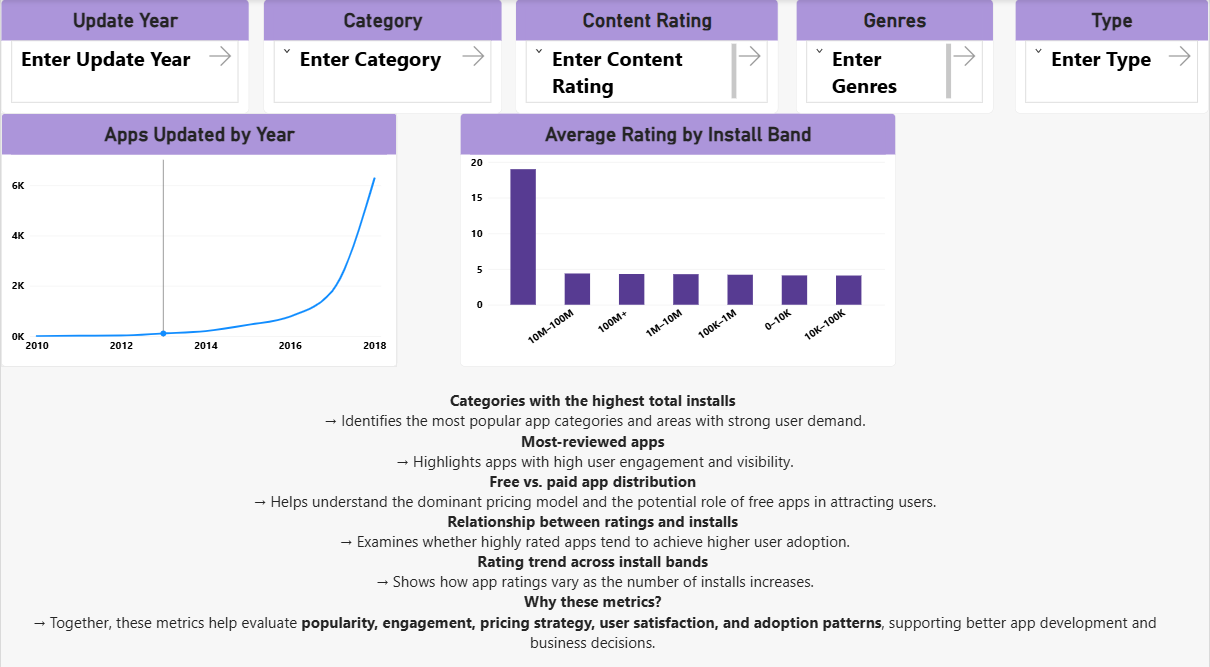

The dashboard page shown, as its layout file describes it:
{"tool":"powerbi","page":{"name":"Page 3","canvas":[1920,1080],"ordinal":2},"visuals":[{"type":"lineChart","title":"Apps Updated by Year","fields":{"Category":["googleplaystore_powerbi.Update Year"],"Y":["Count(googleplaystore_powerbi.App)"]},"box":[0,182.2,630.4,403.3],"z":0},{"type":"clusteredColumnChart","title":"Average Rating by Install Band","fields":{"Category":["googleplaystore_powerbi.Install Band"],"Y":["Avg(googleplaystore_powerbi.Rating)"]},"box":[729,182.2,693.1,403.3],"z":1},{"type":"textSlicer","fields":{"Values":["googleplaystore_powerbi.Update Year"]},"box":[0,0,394.4,182.2],"z":2},{"type":"textSlicer","fields":{"Values":["googleplaystore_powerbi.Category"]},"box":[418.3,0,379.4,182.2],"z":3},{"type":"textSlicer","fields":{"Values":["googleplaystore_powerbi.Content Rating"]},"box":[818.6,0,418.3,182.2],"z":4},{"type":"textSlicer","fields":{"Values":["googleplaystore_powerbi.Genres"]},"box":[1263.8,0,313.7,182.2],"z":5},{"type":"textSlicer","fields":{"Values":["googleplaystore_powerbi.Type"]},"box":[1613.3,0,307.7,182.2],"z":6},{"type":"textbox","box":[0,585.6,1882.2,493],"z":7}]}

Visuals, with their boxes in screenshot pixels (x1, y1, x2, y2), scaled from the page's 1920x1080 canvas onto the 1210x667 screenshot:
"Apps Updated by Year" lineChart: [left=0, top=113, right=397, bottom=362]
"Average Rating by Install Band" clusteredColumnChart: [left=459, top=113, right=896, bottom=362]
textSlicer - googleplaystore_powerbi.Update Year: [left=0, top=0, right=249, bottom=113]
textSlicer - googleplaystore_powerbi.Category: [left=264, top=0, right=503, bottom=113]
textSlicer - googleplaystore_powerbi.Content Rating: [left=516, top=0, right=780, bottom=113]
textSlicer - googleplaystore_powerbi.Genres: [left=796, top=0, right=994, bottom=113]
textSlicer - googleplaystore_powerbi.Type: [left=1017, top=0, right=1209, bottom=113]
textbox: [left=0, top=362, right=1186, bottom=666]
